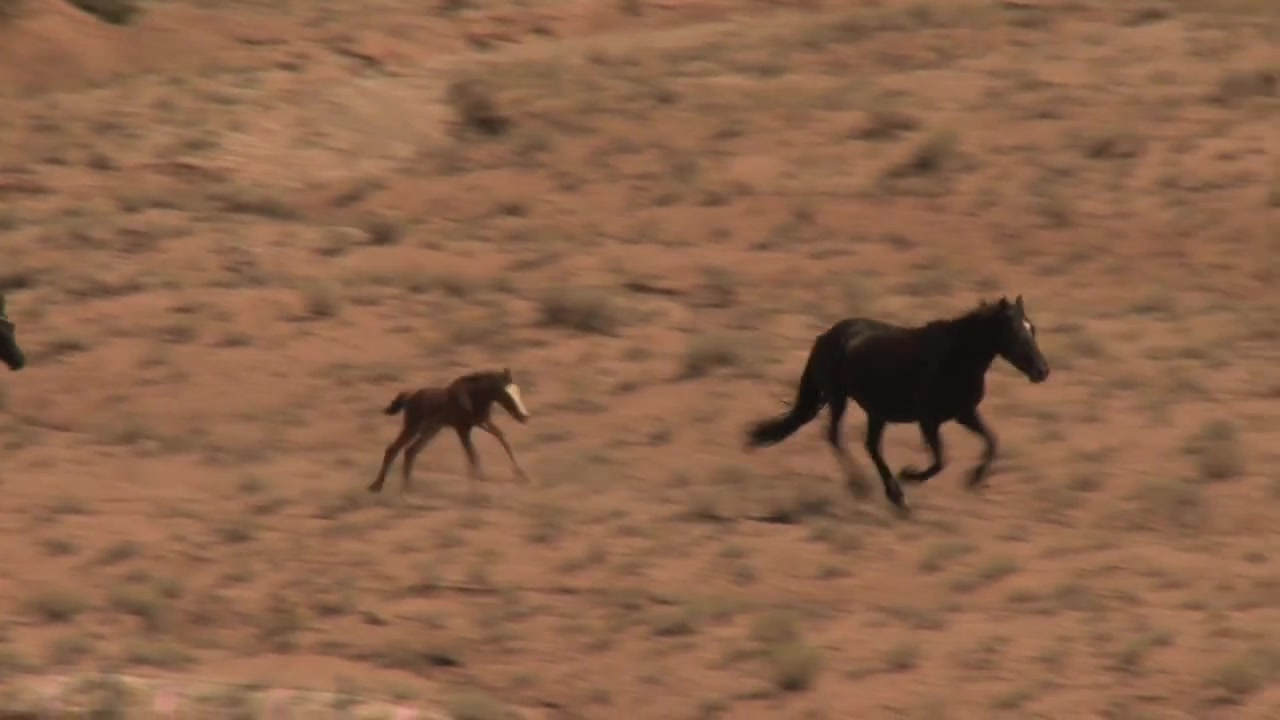horse: (744, 294, 1052, 514), (366, 362, 537, 503), (1, 289, 22, 383)
